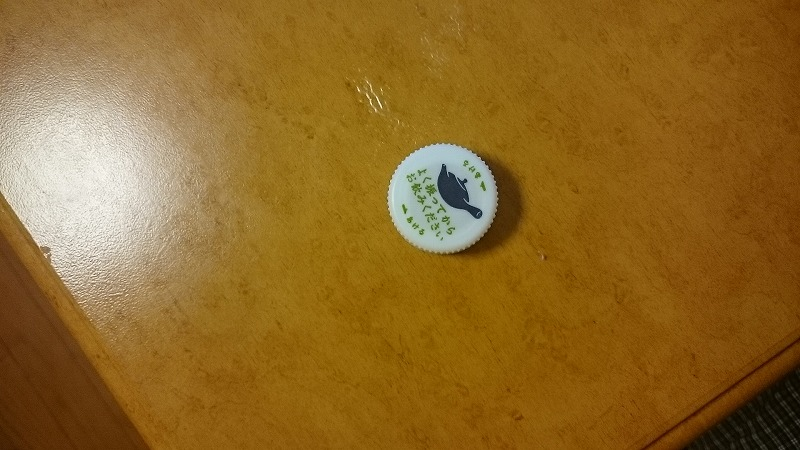A: (379, 134, 510, 255)
